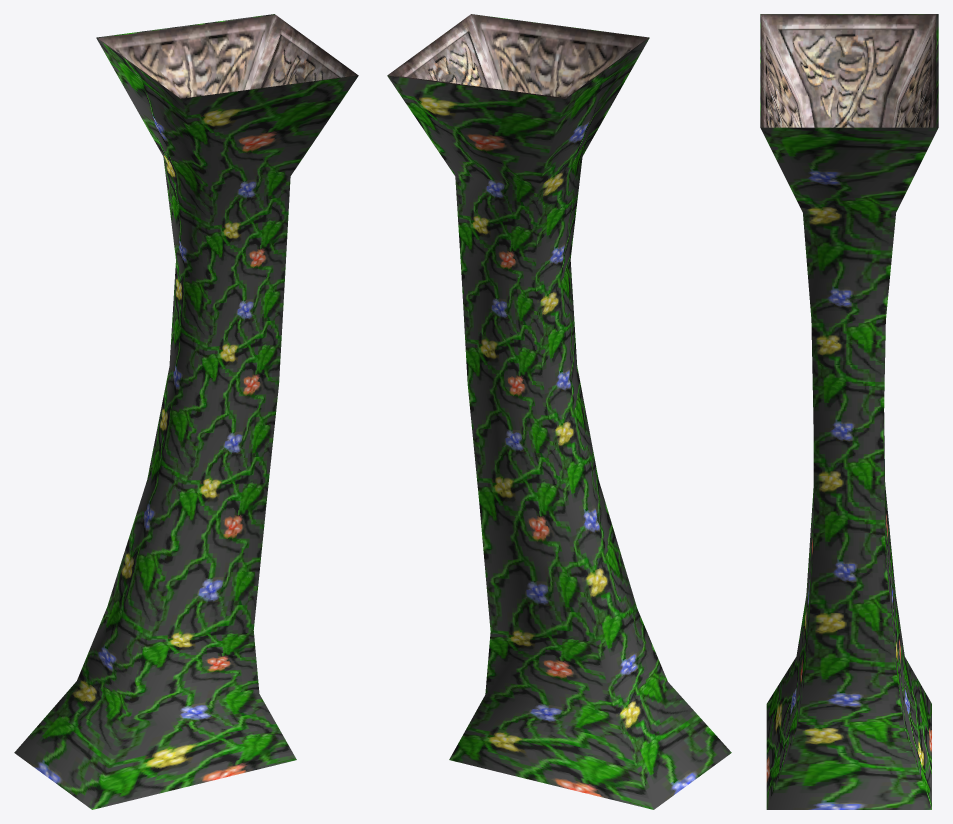
The model's file is EKH_GROTTO_PS_GR_PILLAR48477__GX.fbx.
The picture shows the model from 3 angles, left to right: view 1: azimuth 30°, elevation 25°; view 2: azimuth 150°, elevation 25°; view 3: azimuth 270°, elevation 25°; orthographic projection. The views are drawn at different scales.
Parts seen in each view (by area): view 1: EKH_GROTTO_PS_GR_PILLAR48477__GX; view 2: EKH_GROTTO_PS_GR_PILLAR48477__GX; view 3: EKH_GROTTO_PS_GR_PILLAR48477__GX.
Part boxes in pixels (box(x1,y1,x2,y2)): EKH_GROTTO_PS_GR_PILLAR48477__GX: box(14, 14, 358, 809); EKH_GROTTO_PS_GR_PILLAR48477__GX: box(387, 14, 731, 809); EKH_GROTTO_PS_GR_PILLAR48477__GX: box(760, 14, 938, 809).
Size of the model in its own units: 15789 by 39613 by 8728.
Materials: 5 (5 with a texture image).
